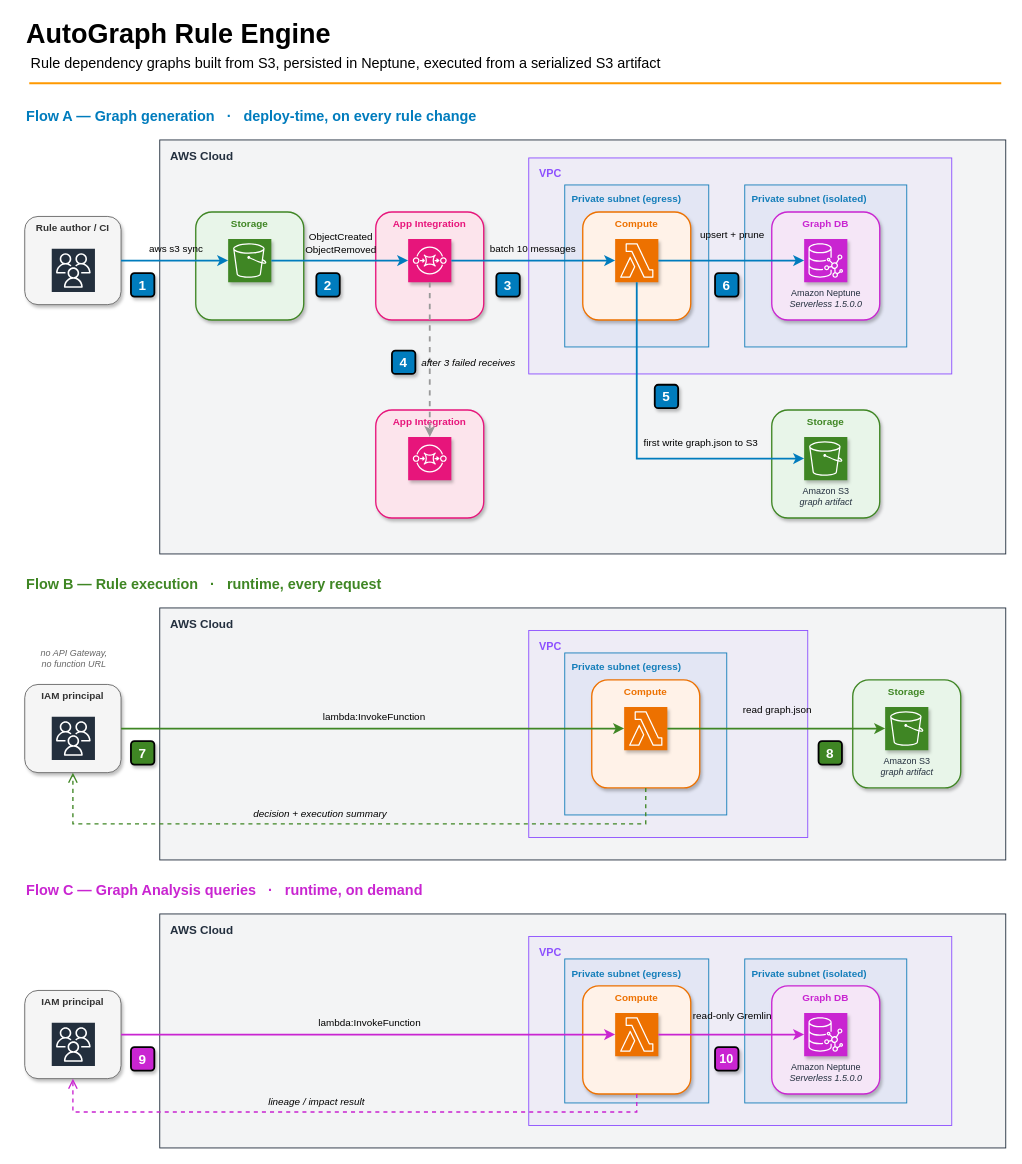
The diagram is 1022 pixels wide and 1164 high, and some of its shapes have lost their labels. Here are the shapes that lost their labels. From the top down, the centre of each, then its label:
At point 250,261: "Amazon S3 rules bucket".
At point 430,261: "Amazon SQS rule events".
At point 637,261: "AWS Lambda graph generator".
At point 430,459: "Amazon SQS dead-letter queue".
At point 646,729: "AWS Lambda rule executor".
At point 637,1035: "AWS Lambda graph query".
